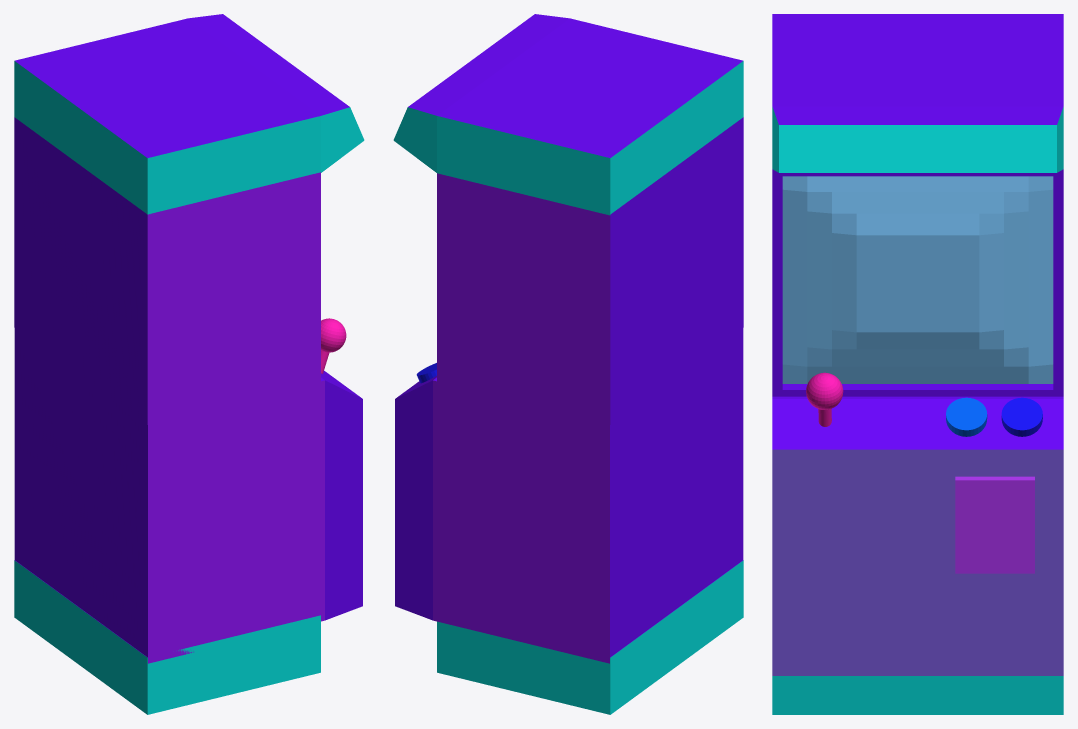
File: arcanoidc_colored.fbx
3 views of the same model, side by side, from view 1: azimuth 30°, elevation 25°; view 2: azimuth 150°, elevation 25°; view 3: azimuth 270°, elevation 25° (orthographic). The views are drawn at different scales.
Parts seen in each view (by area): view 1: Cube.003; view 2: Cube.003; view 3: Cube.003.
Boxes of the visible parts, left/top/right/bottom form: Cube.003: left=14, top=14, right=364, bottom=714; Cube.003: left=393, top=14, right=743, bottom=714; Cube.003: left=772, top=14, right=1063, bottom=714.
Bounding box in the file's own units: 133 × 318 × 138.
